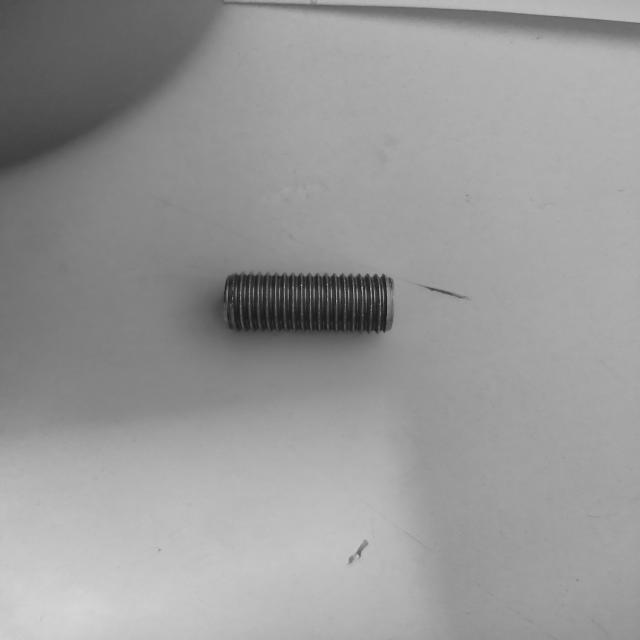Normal: (225, 271, 394, 334)
